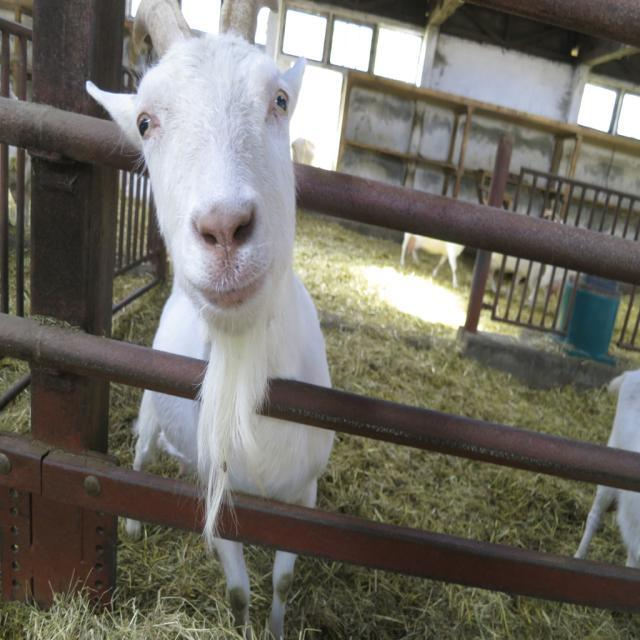Goat: (85, 1, 337, 638), (573, 368, 639, 569)
